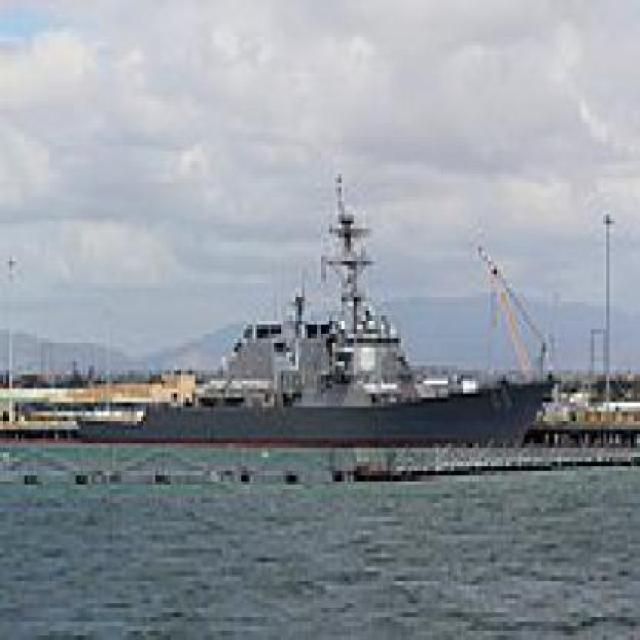warship2: (56, 157, 553, 468)
